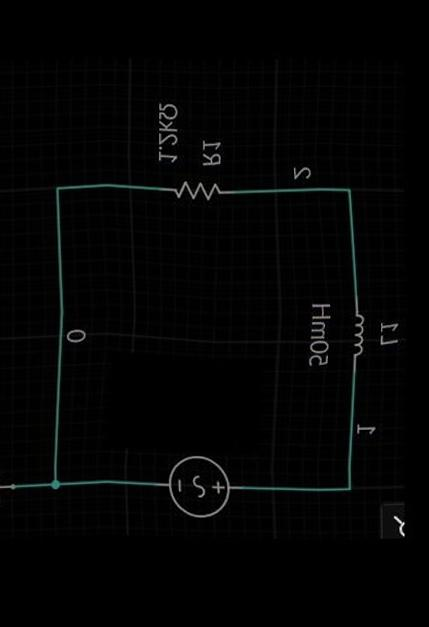Battery: (142, 441, 247, 546)
